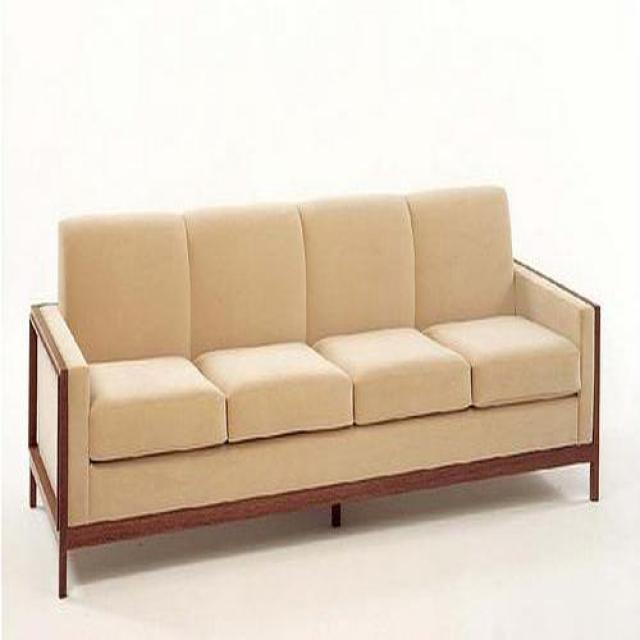sofa: (29, 186, 602, 595)
